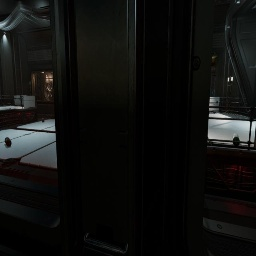0: (233, 133, 240, 146)
EmergencyPhone ,: (227, 94, 229, 102)
FireAlarm ,: (227, 104, 228, 109)
NitrogenTank ,: (5, 137, 11, 147), (42, 118, 44, 122)
